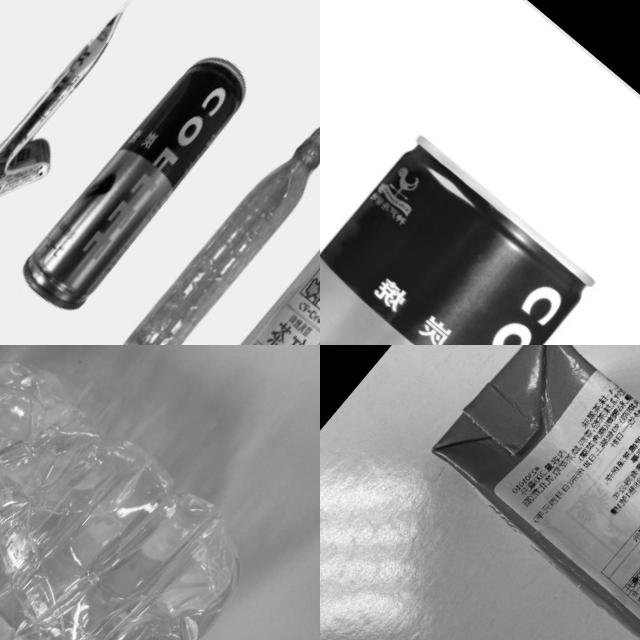Aluminium Foil: (422, 345, 640, 640), (0, 0, 178, 257), (191, 203, 320, 345)
Can: (9, 38, 268, 324), (320, 121, 613, 345)
Transparent Plastic Bottle: (0, 345, 272, 640), (98, 106, 320, 345)
